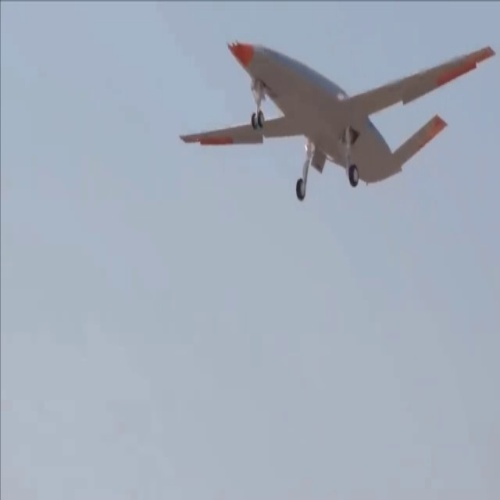uav: (176, 29, 496, 203)
